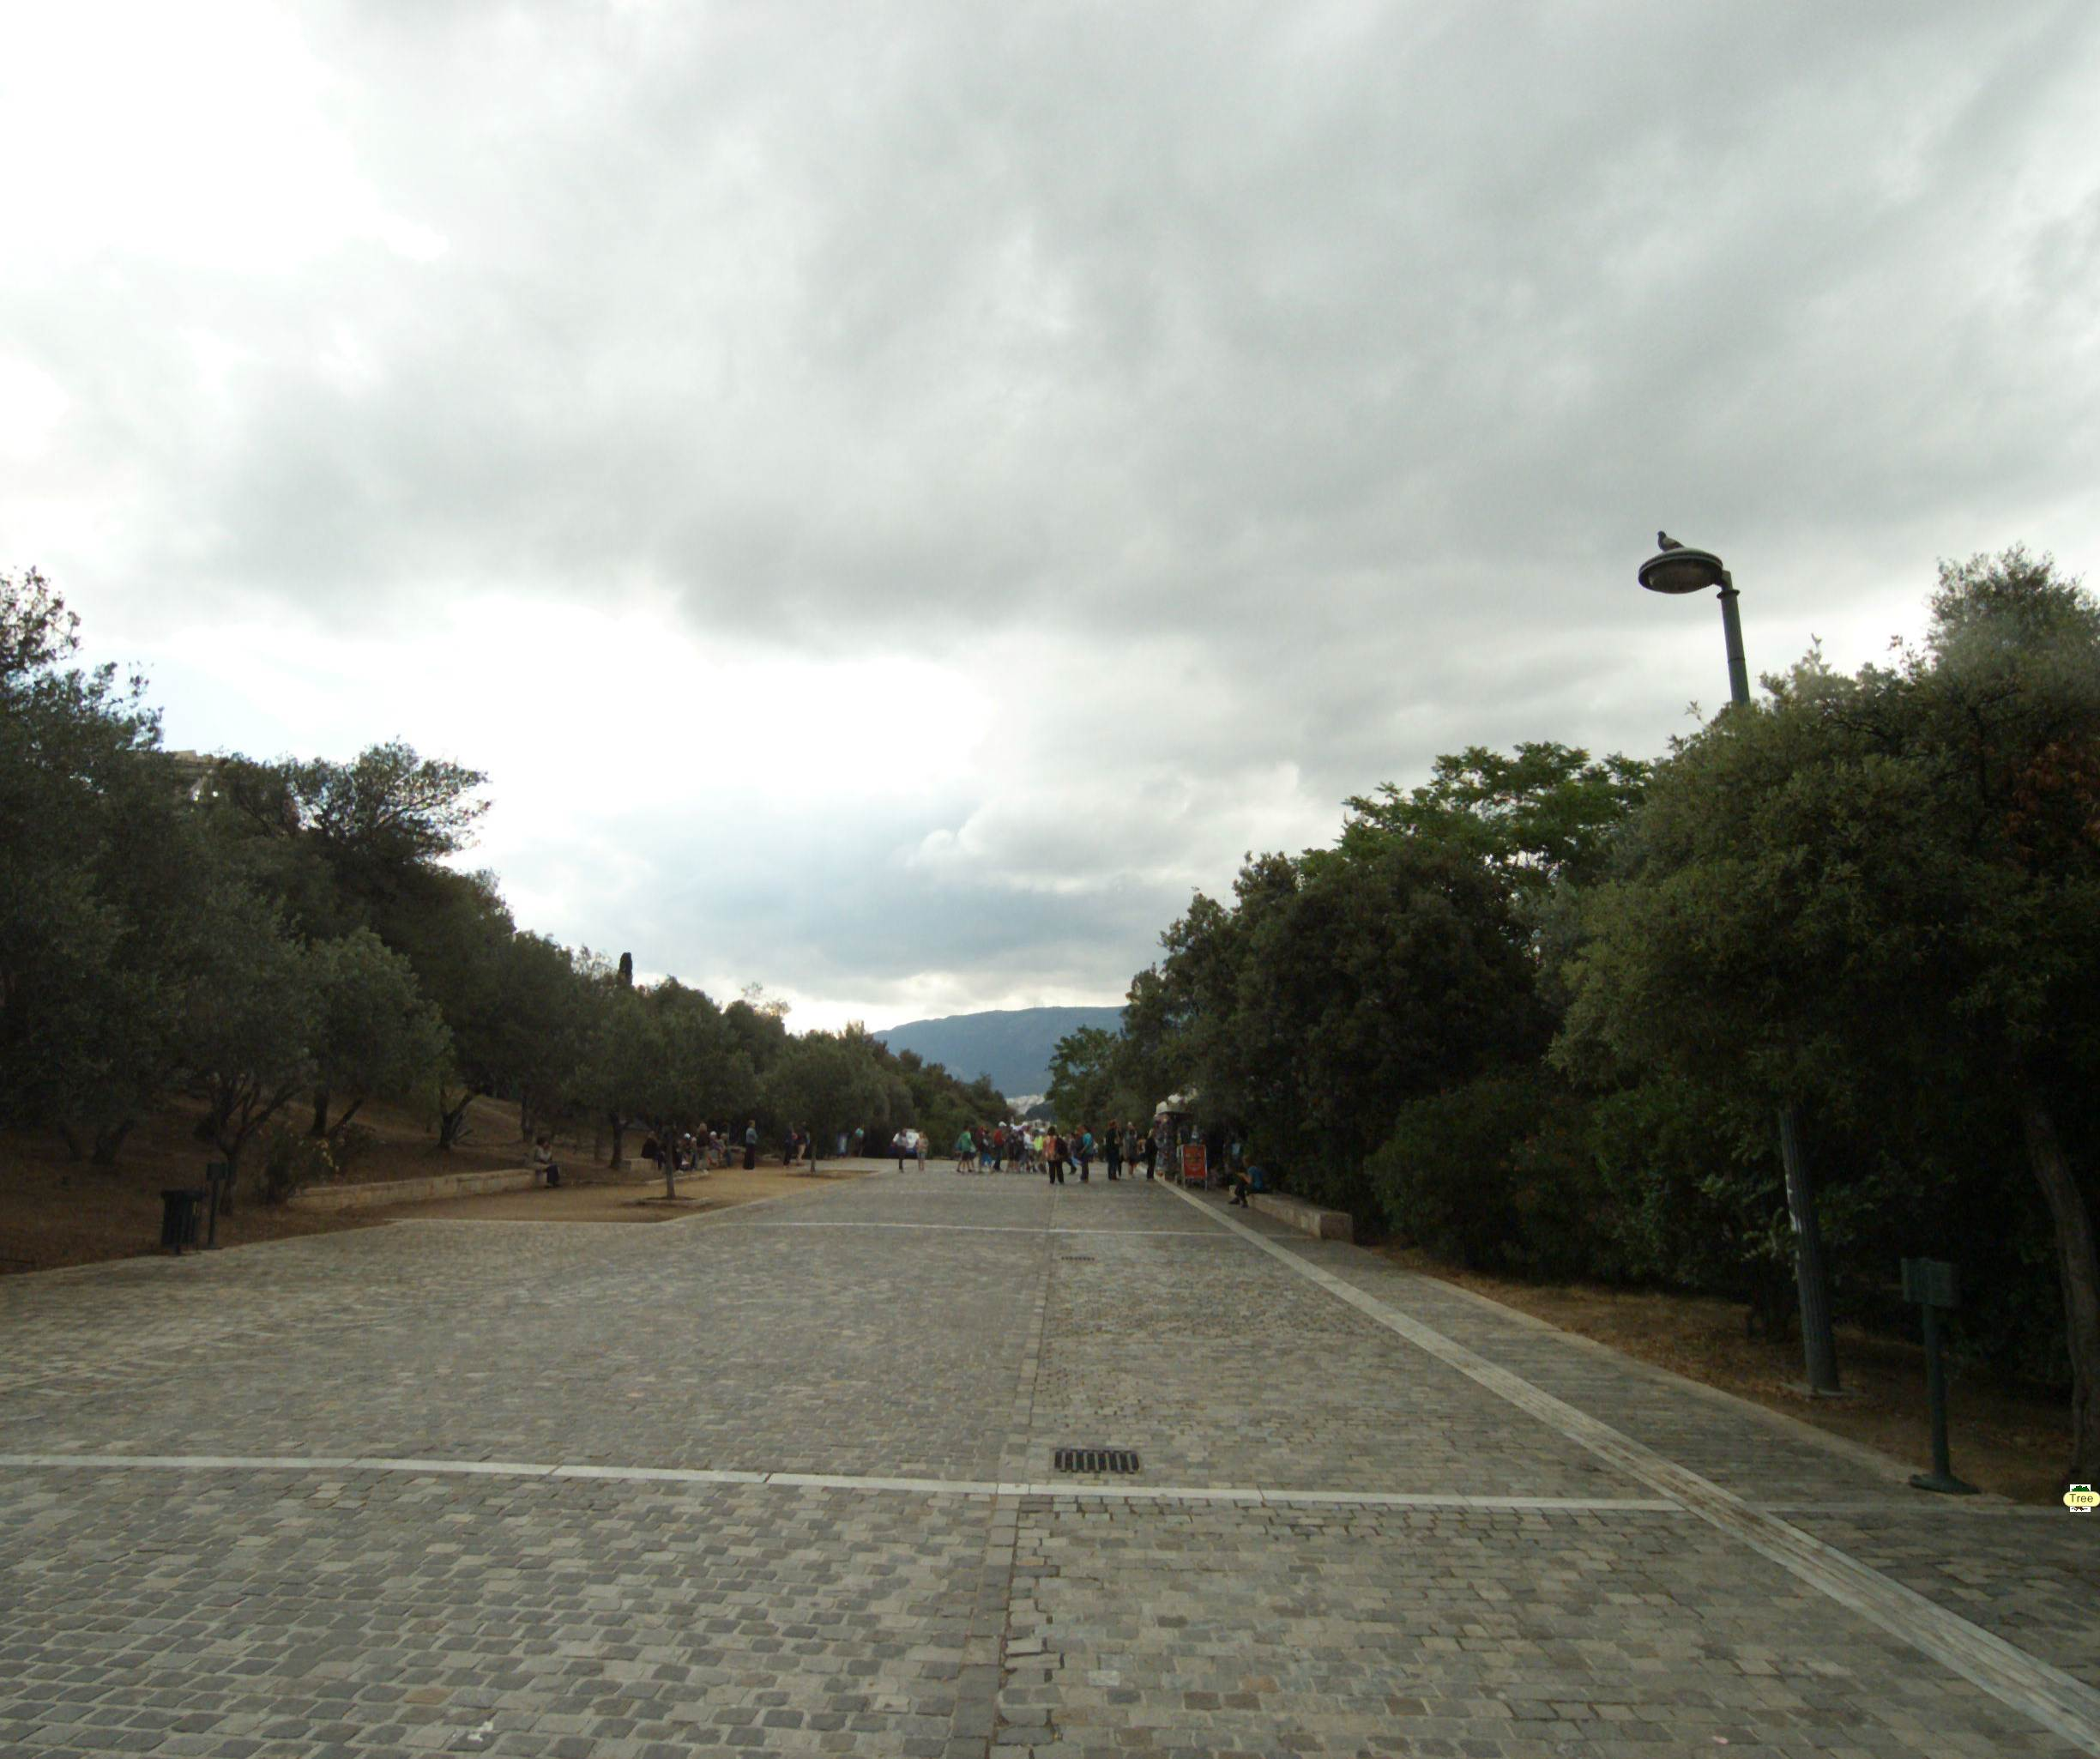tree: (577, 886, 753, 1251)
